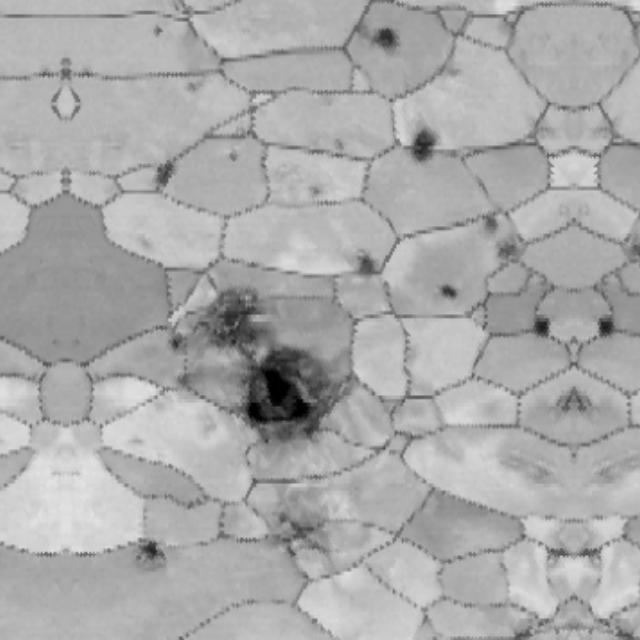good_void: (237, 336, 343, 443), (156, 272, 268, 362), (251, 492, 348, 567), (131, 528, 168, 568), (362, 20, 405, 53), (411, 126, 437, 165), (155, 158, 179, 200), (355, 247, 383, 278), (443, 59, 470, 80), (531, 117, 555, 139), (595, 117, 619, 139), (439, 283, 466, 300), (499, 241, 520, 262), (307, 181, 327, 203), (557, 387, 575, 410), (575, 387, 593, 410), (330, 131, 349, 150), (484, 213, 501, 234), (228, 148, 248, 163), (184, 79, 203, 93), (535, 312, 550, 329), (600, 312, 615, 329), (630, 241, 640, 262), (152, 23, 172, 33)
